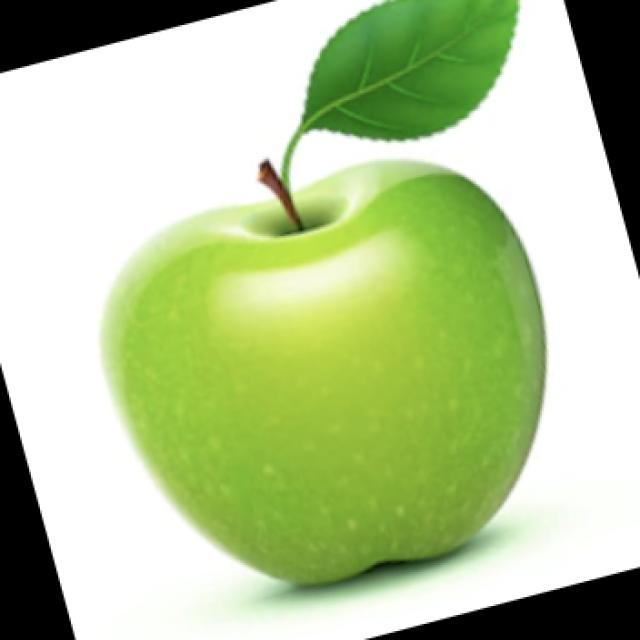Fresh Apple: (98, 153, 567, 585)
